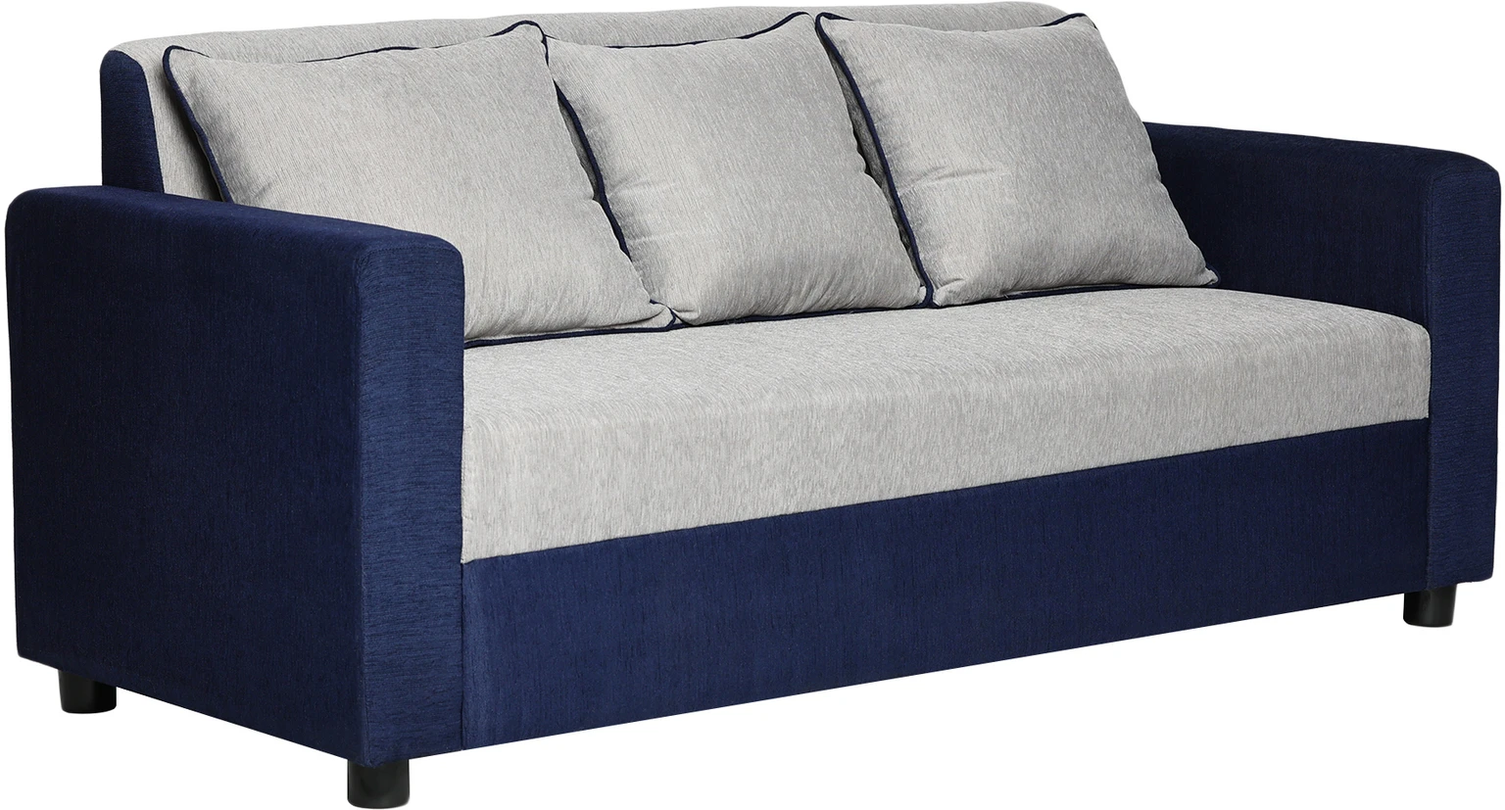3seatersofa: (6, 0, 1503, 809)
backrest: (102, 4, 1068, 196)
base: (462, 417, 1427, 752)
leftarmrest: (1144, 125, 1499, 586)
leg: (347, 760, 408, 809), (55, 672, 118, 715), (1403, 582, 1458, 625)
pillow: (163, 22, 676, 341), (817, 10, 1217, 306), (545, 14, 925, 325)
rightarmrest: (6, 182, 464, 762)
seat: (461, 290, 1429, 562)
